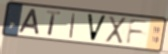A: (17, 8, 41, 36)
F: (125, 18, 150, 45)
I: (68, 13, 77, 40)
T: (46, 10, 62, 38)
V: (86, 12, 109, 43)
X: (104, 15, 128, 45)
